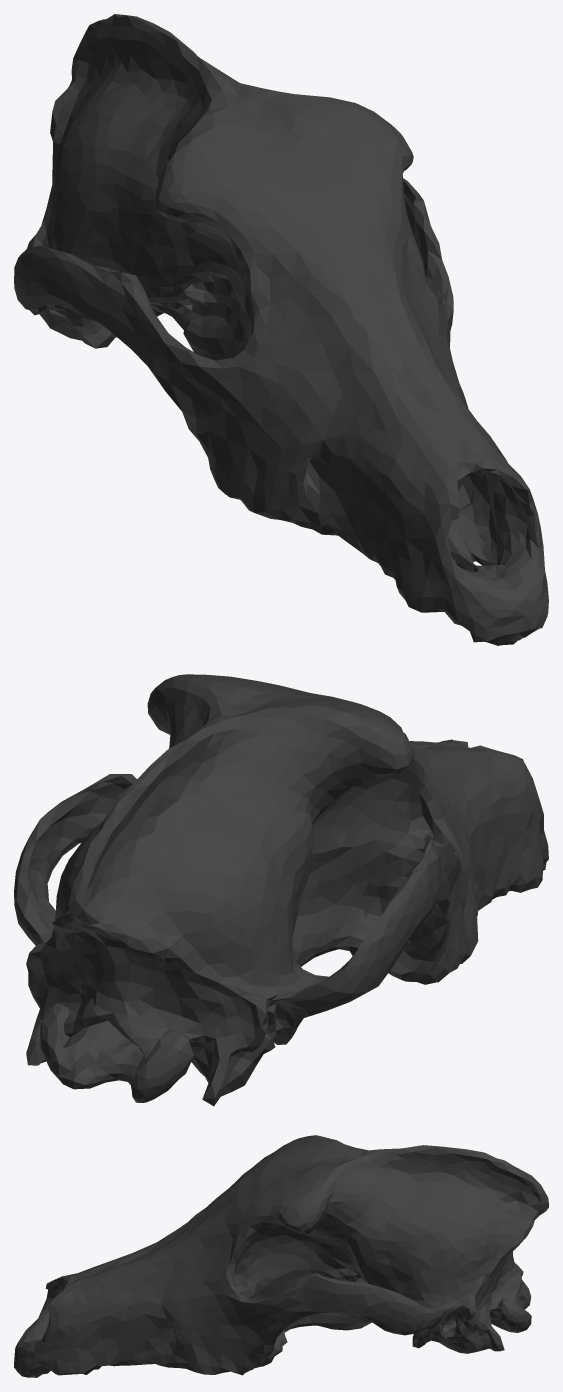
Rendered from Maxilla.glb.
3 views of the same model, one above another, from view 1: azimuth 30°, elevation 25°; view 2: azimuth 150°, elevation 25°; view 3: azimuth 270°, elevation 25° (orthographic). The views are drawn at different scales.
Visible parts, largest first — view 1: Maxilla; view 2: Maxilla; view 3: Maxilla.
Boxes of the visible parts, x1,y1,x2,y2 form: Maxilla: [14, 14, 548, 645]; Maxilla: [14, 674, 548, 1106]; Maxilla: [14, 1135, 548, 1377].
Bounding box in the file's own units: 5.79 × 5.6 × 12.
1 material, 1 textured.
